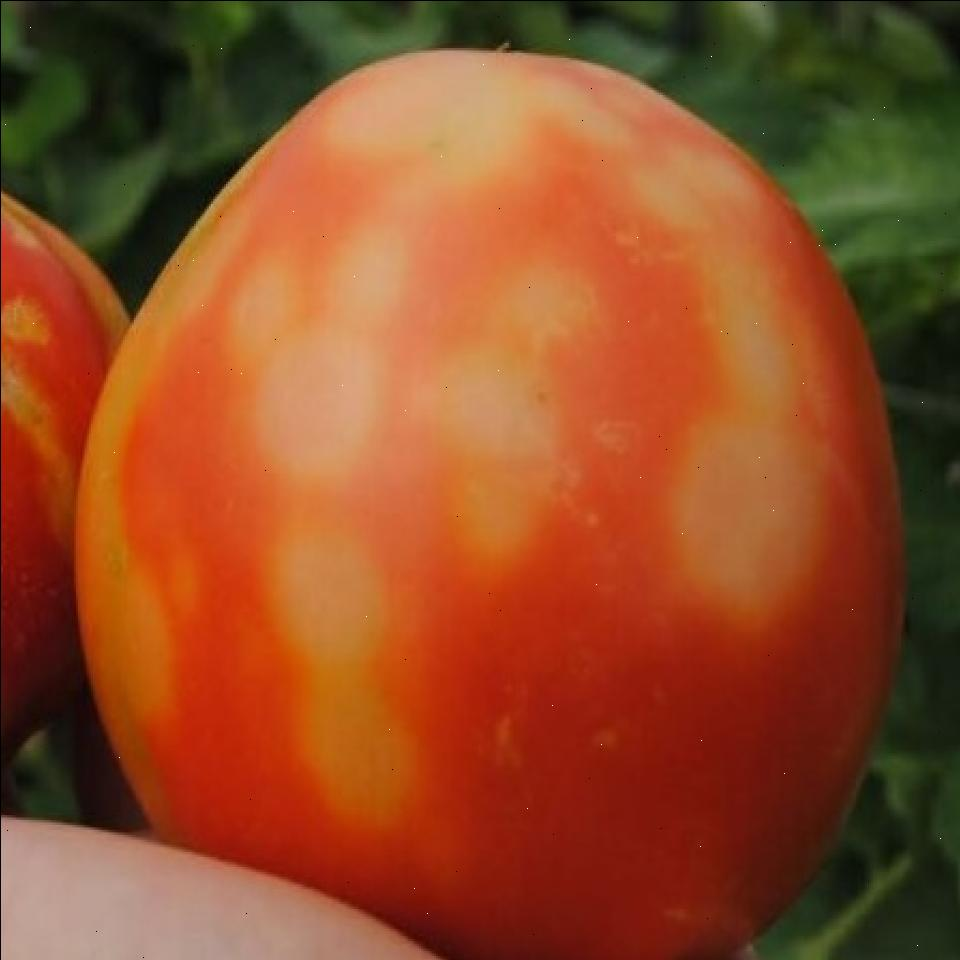Spotted wilt Virus: (73, 49, 904, 960), (0, 192, 129, 745)
